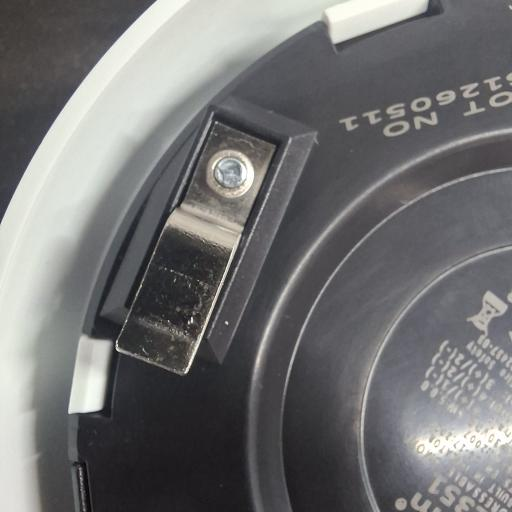yaysiz: (114, 118, 279, 377)
